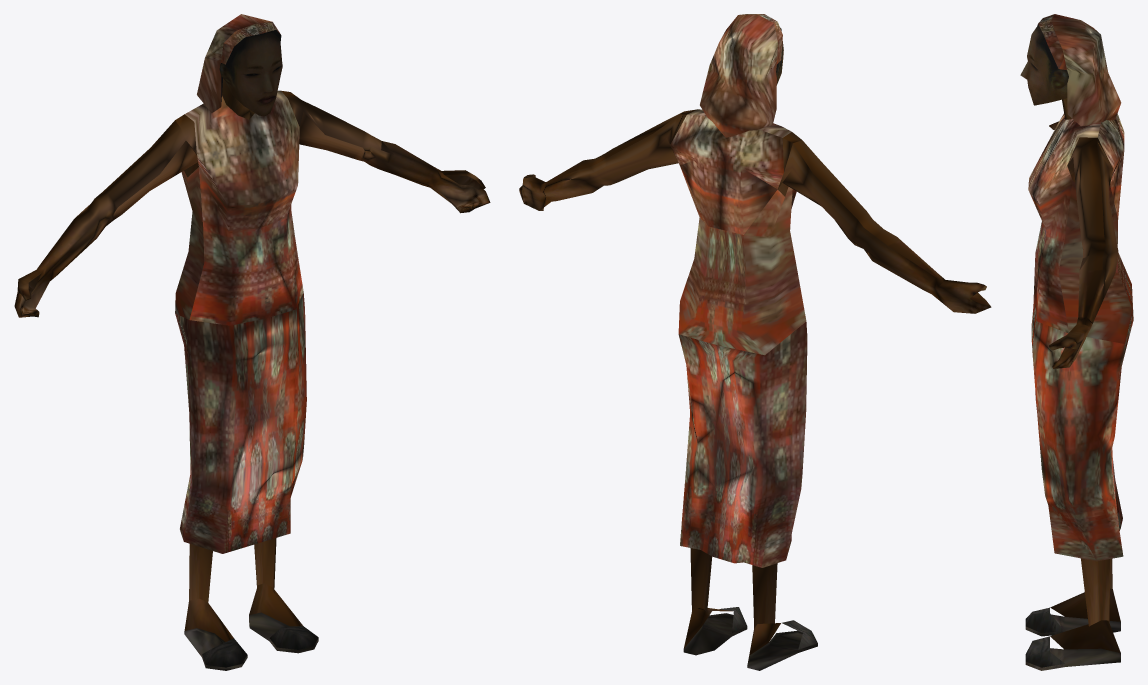
The model's file is CSomalF4.glb.
3 views of the same model, side by side, from view 1: azimuth 30°, elevation 25°; view 2: azimuth 150°, elevation 25°; view 3: azimuth 270°, elevation 25° (orthographic).
Parts seen in each view (by area): view 1: _CSomalF4; view 2: _CSomalF4; view 3: _CSomalF4.
Part boxes in pixels (x1,y1,x2,y2): _CSomalF4: [14, 14, 490, 670]; _CSomalF4: [519, 14, 991, 670]; _CSomalF4: [1020, 14, 1133, 670].
Size of the model in its own units: 1.59 by 2.02 by 0.3327.
Materials: 3 (3 with a texture image).
